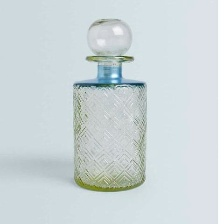bottle: (65, 10, 158, 197)
